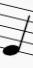note: (3, 12, 31, 57)
